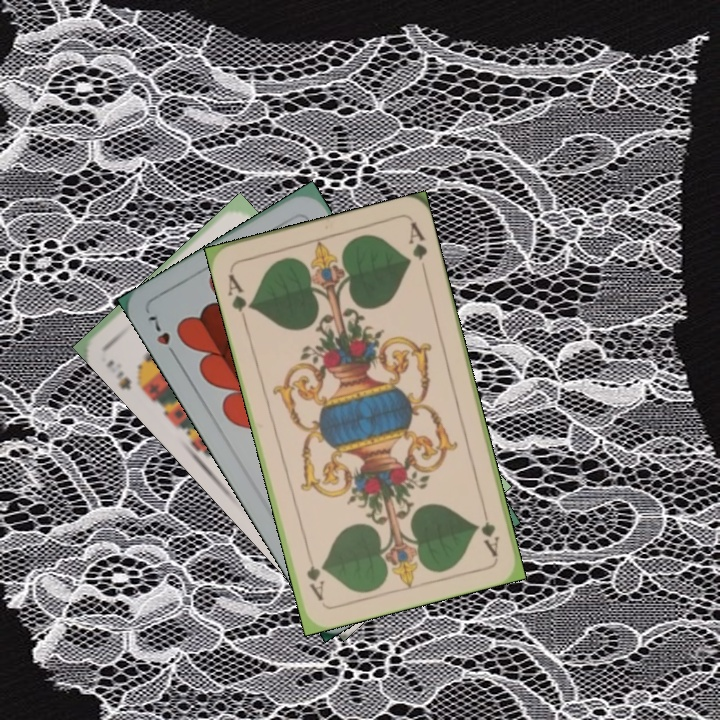GA: (223, 266, 255, 325), (476, 501, 502, 559)
H7: (143, 311, 180, 362)
S9: (102, 356, 151, 394)
